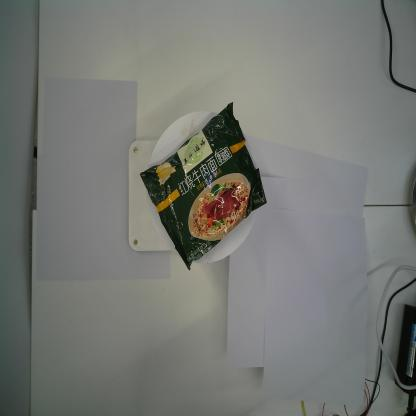Instant Noodles: (140, 101, 267, 271)
